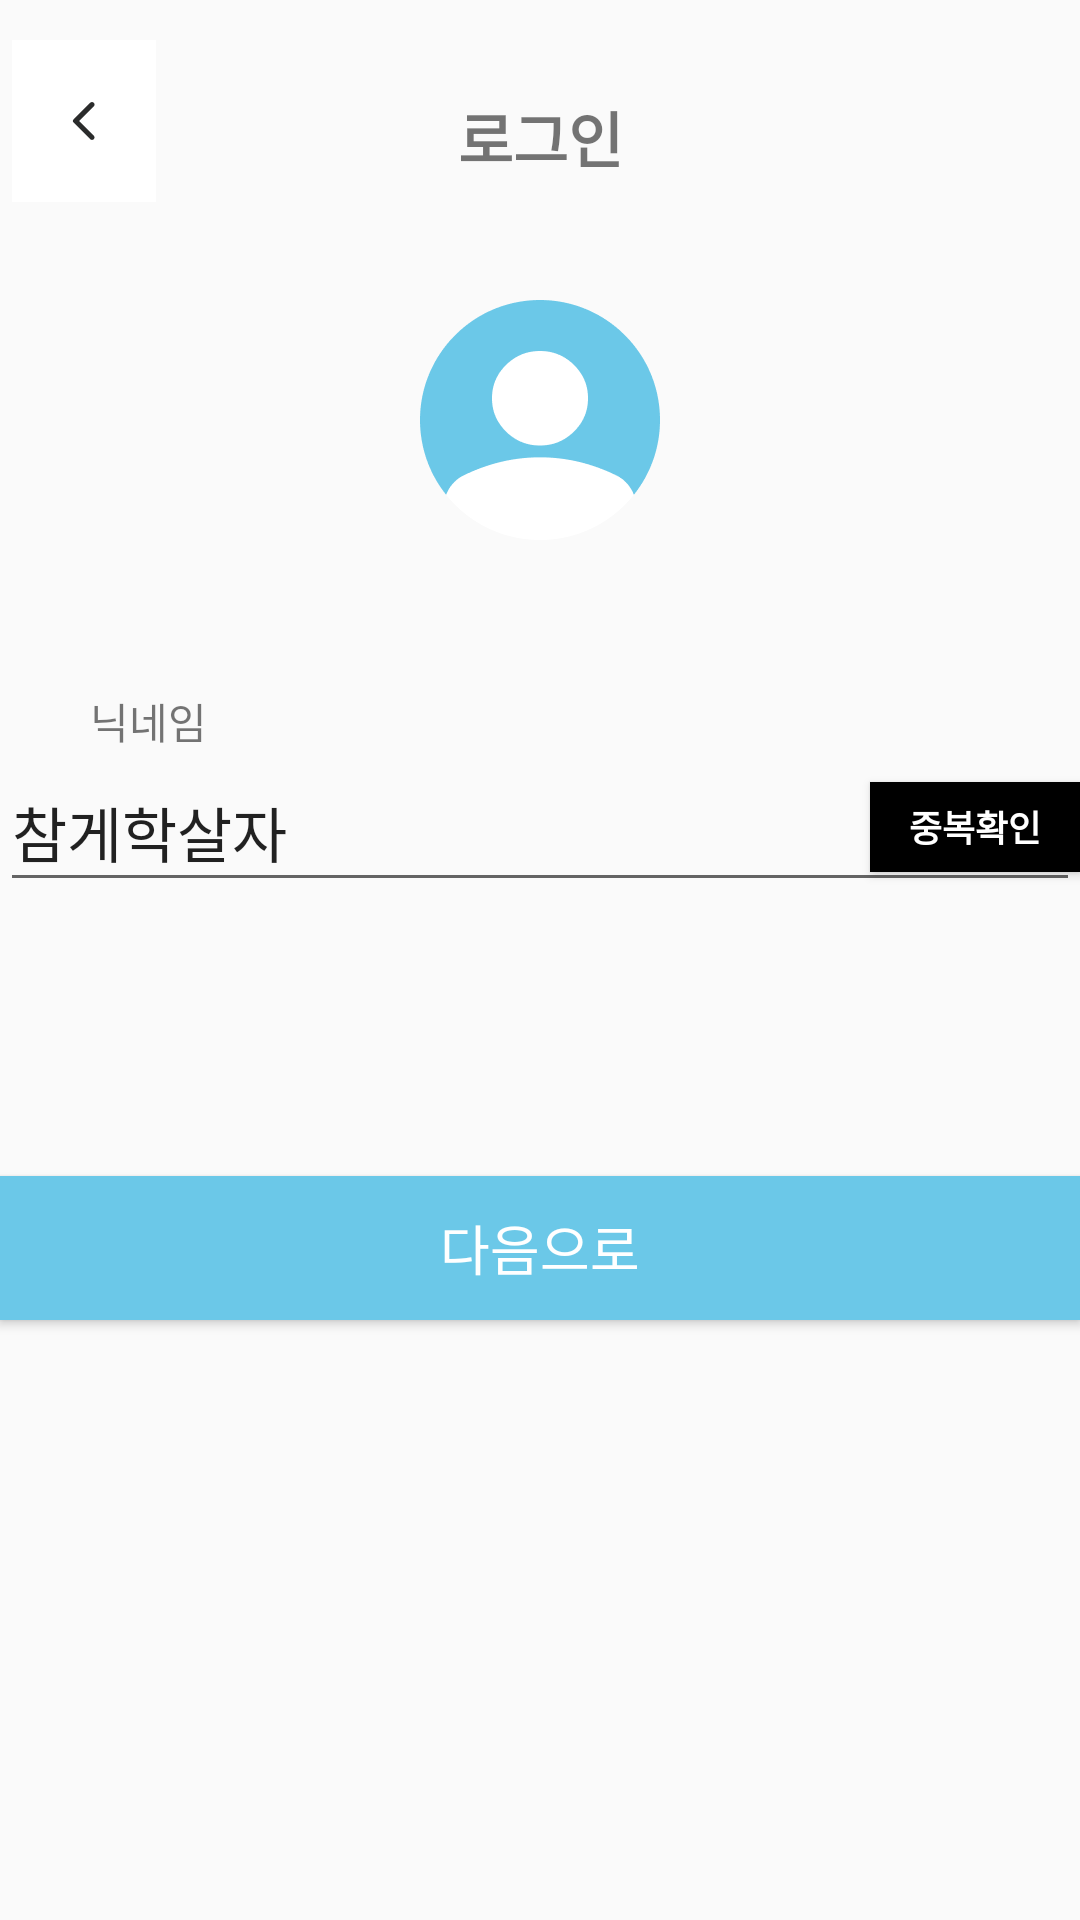

Named icons in this screenshot (1080 x 1920) and their centers, (x=x, y=y):
arrow back: (x=84, y=121)
user: (x=540, y=397)
